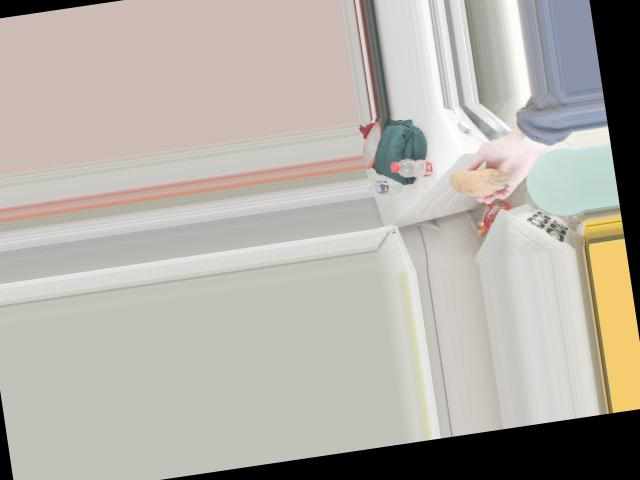sweet_potato: (435, 165, 506, 200)
